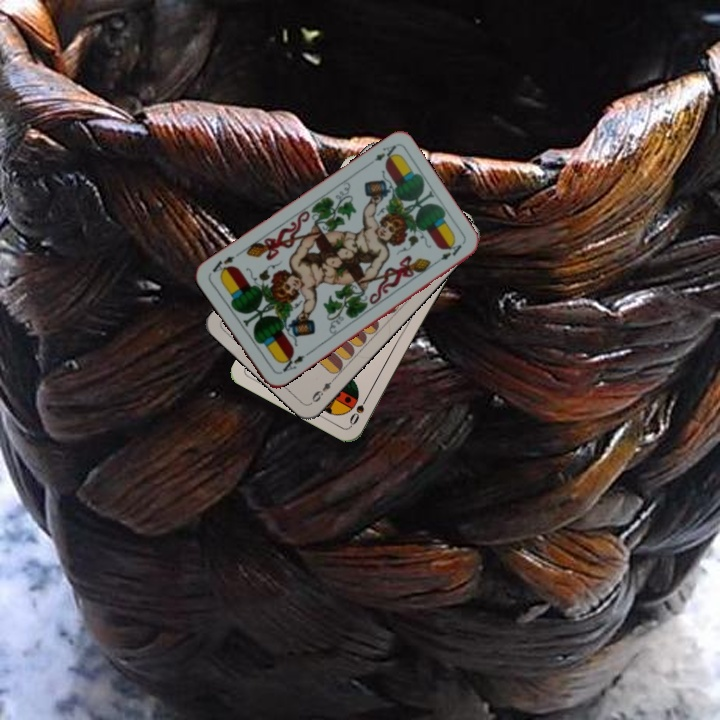E9: (307, 373, 338, 406)
EA: (363, 141, 400, 169), (276, 349, 312, 377)
SO: (345, 390, 372, 428)
